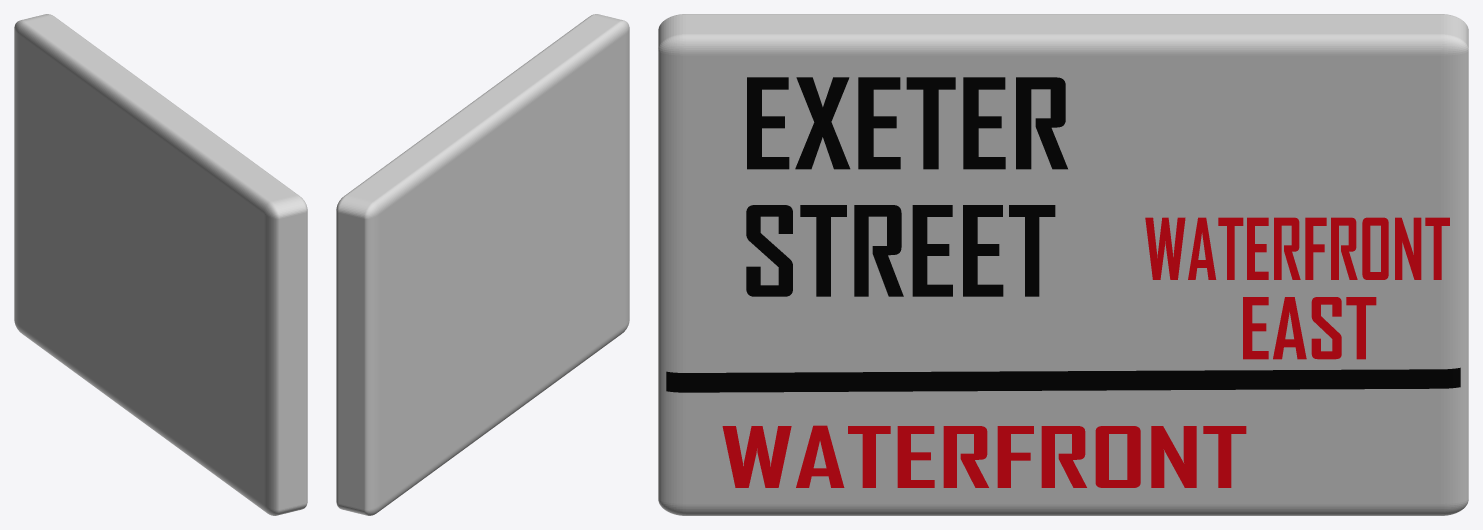
File: uk_styled_street_sign_51.fbx
3 views of the same model, side by side, from view 1: azimuth 30°, elevation 25°; view 2: azimuth 150°, elevation 25°; view 3: azimuth 270°, elevation 25° (orthographic). The views are drawn at different scales.
Parts seen in each view (by area): view 1: Cube; view 2: Cube; view 3: Cube, Text.002, Text, Text.001, Text.003, Text.004.
Boxes of the visible parts, x1,y1,x2,y2 form: Cube: (14,14,307,515); Cube: (336,14,629,515); Cube: (658,14,1468,515); Text.002: (722,425,1246,487); Text: (747,77,1067,169); Text.001: (746,205,1055,296); Text.003: (1145,217,1449,279); Text.004: (1243,297,1376,359).
Bounding box in the file's own units: 1.63 × 11.91 × 18.18.
